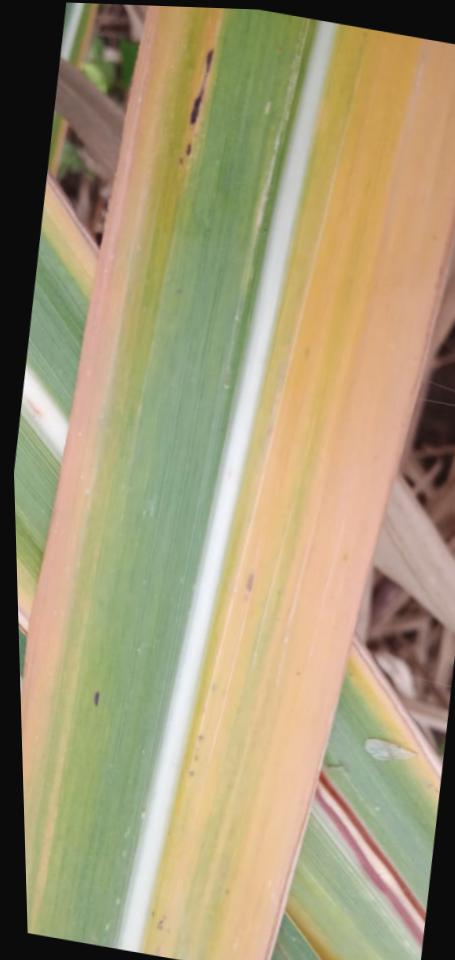RedRot: (317, 778, 423, 949)
Rust: (189, 47, 213, 125), (244, 572, 253, 591), (92, 690, 99, 707), (184, 142, 191, 156), (187, 770, 194, 777), (197, 734, 203, 741), (193, 754, 198, 762), (179, 157, 183, 165)
Yellow: (133, 24, 455, 960), (21, 5, 219, 931), (344, 639, 439, 811), (42, 178, 95, 301), (16, 556, 37, 621)
